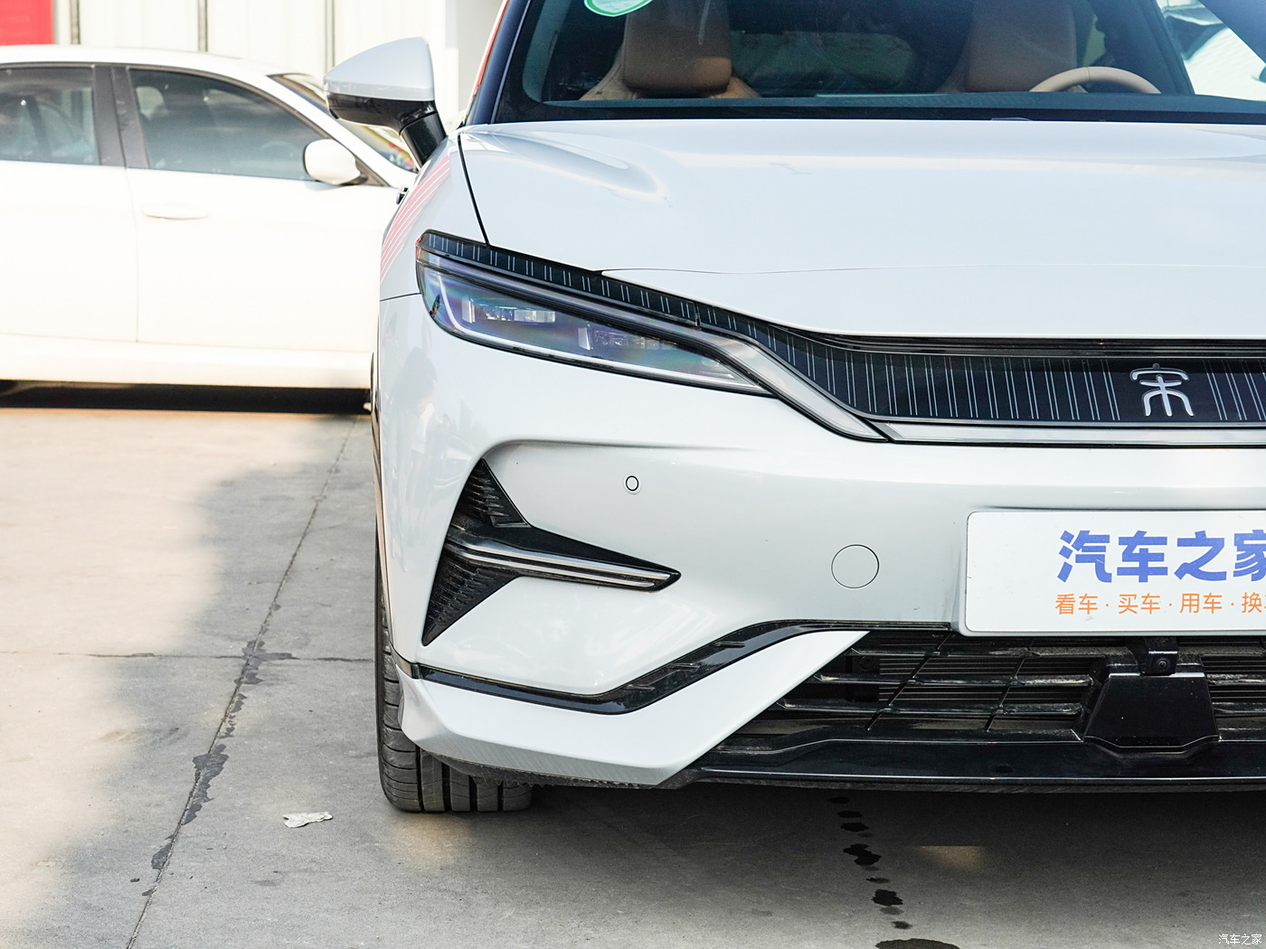BYD Song: (1130, 363, 1194, 416)
